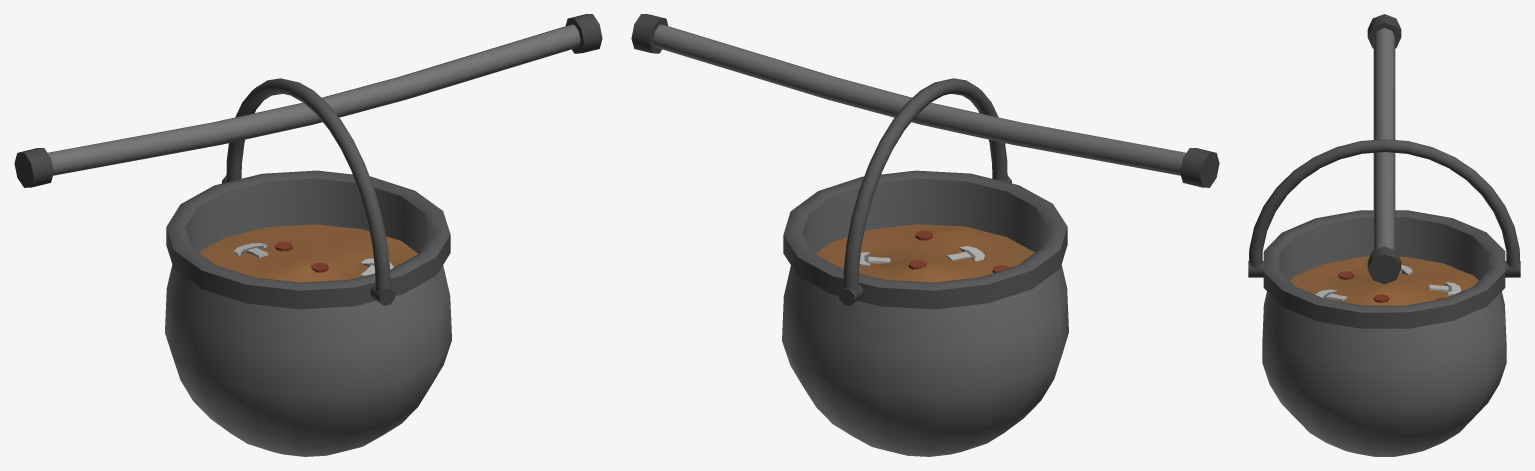
Rendered from Pot_02.glb.
3 renders of one model, left to right at view 1: azimuth 30°, elevation 25°; view 2: azimuth 150°, elevation 25°; view 3: azimuth 270°, elevation 25°, orthographic. The views are drawn at different scales.
Visible parts, largest first — view 1: Pot_02_LOD0; view 2: Pot_02_LOD0; view 3: Pot_02_LOD0.
Boxes of the visible parts, x1,y1,x2,y2 form: Pot_02_LOD0: (14,14,602,456); Pot_02_LOD0: (631,14,1219,456); Pot_02_LOD0: (1248,14,1520,456).
Size of what is drawn, in the model's own units: 0.769 by 0.4652 by 0.3688.
Materials: 1 (1 with a texture image).
